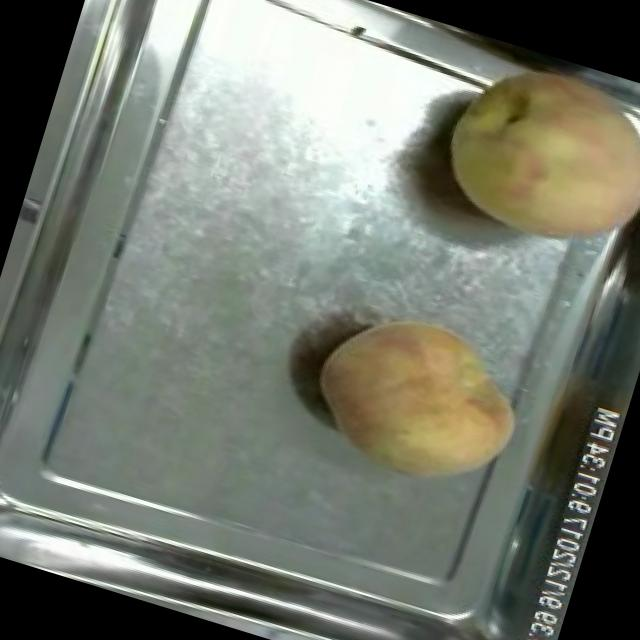Fruit: (413, 33, 640, 278), (292, 287, 542, 509)
